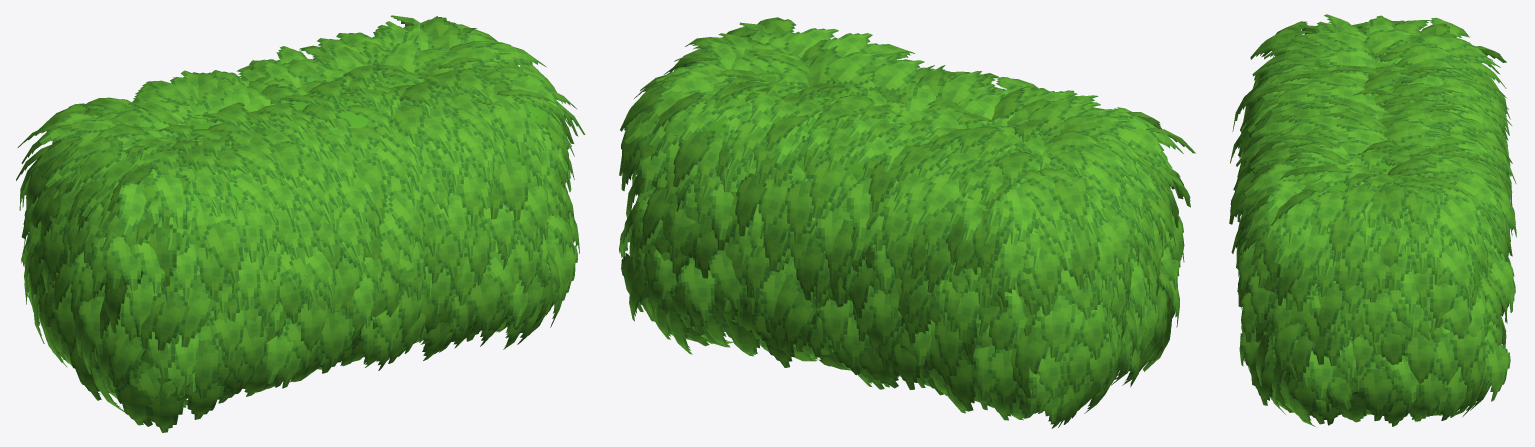
Rendered from Hedge2.glb.
The picture shows the model from 3 angles, left to right: view 1: azimuth 30°, elevation 25°; view 2: azimuth 150°, elevation 25°; view 3: azimuth 270°, elevation 25°; orthographic projection. The views are drawn at different scales.
Visible parts, largest first — view 1: Cube.043; view 2: Cube.043; view 3: Cube.043.
Boxes of the visible parts, bbox=[...] form: Cube.043: bbox=[16, 15, 585, 432]; Cube.043: bbox=[619, 17, 1195, 428]; Cube.043: bbox=[1229, 14, 1516, 426].
Size of the model in its own units: 9.19 by 5.12 by 5.2.
2 materials, 1 textured.
